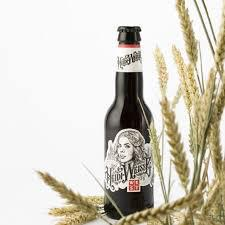beer: (104, 25, 156, 220)
